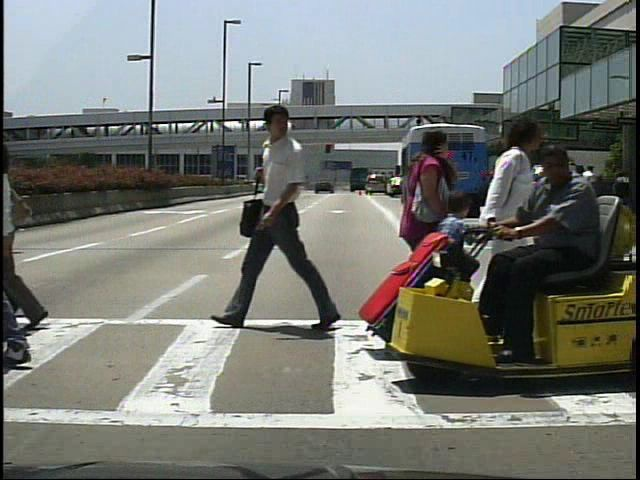person: (490, 143, 618, 375), (462, 108, 565, 362), (227, 101, 331, 339), (393, 124, 458, 355), (0, 133, 75, 327), (432, 187, 476, 319), (582, 163, 602, 218), (493, 164, 513, 213), (499, 166, 517, 219)
